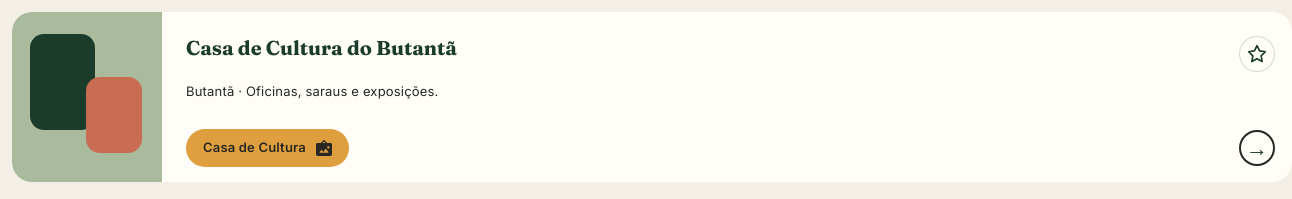
Scenario: PlaceCard › tem um único link, nomeado só pelo nome do espaço, para a página do lugar
Click the link "Casa de Cultura do Butantã": (321,48) [186,35,457,60]
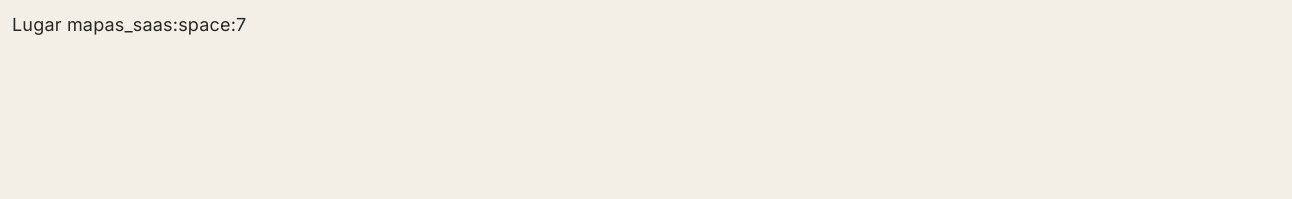
Now the text "Lugar mapas_saas:space:7" is shown, box [12,14,246,35]
